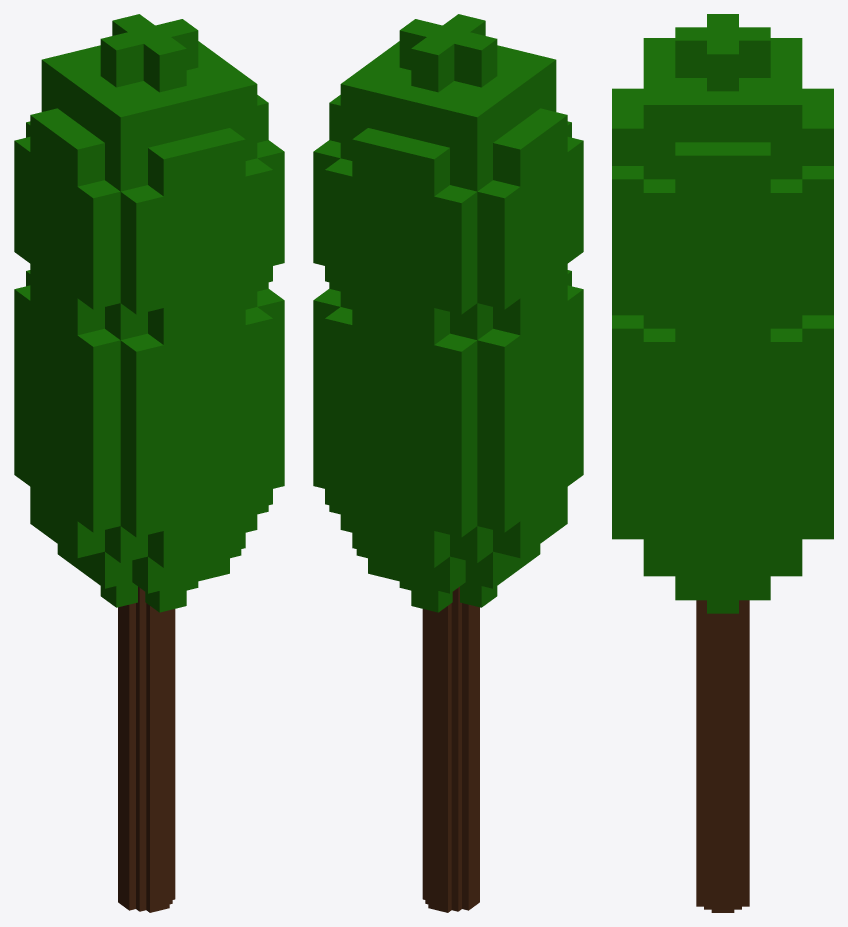
Rendered from arbre2.fbx.
The picture shows the model from 3 angles, left to right: view 1: azimuth 30°, elevation 25°; view 2: azimuth 150°, elevation 25°; view 3: azimuth 270°, elevation 25°; orthographic projection.
Visible parts, largest first — view 1: Sphere; view 2: Sphere; view 3: Sphere.
Part boxes in pixels (x1,y1,x2,y2): Sphere: [14, 14, 284, 912]; Sphere: [313, 14, 583, 912]; Sphere: [612, 14, 833, 912].
Bounding box in the file's own units: 183 × 791 × 183.
